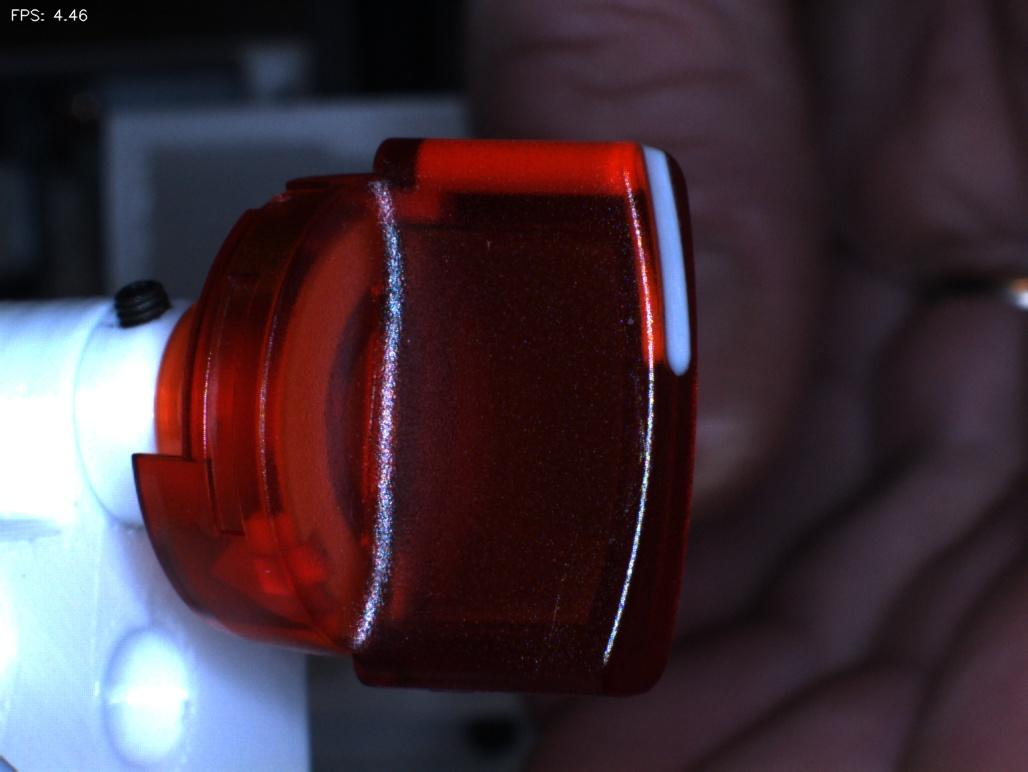Givrage: (525, 556, 582, 681), (611, 358, 658, 509)
